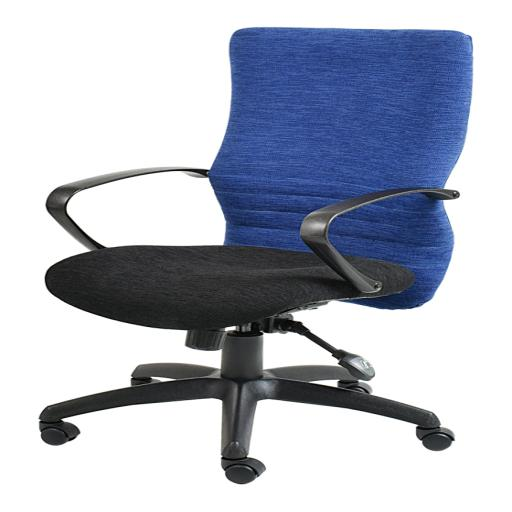chair: (18, 20, 479, 486)
